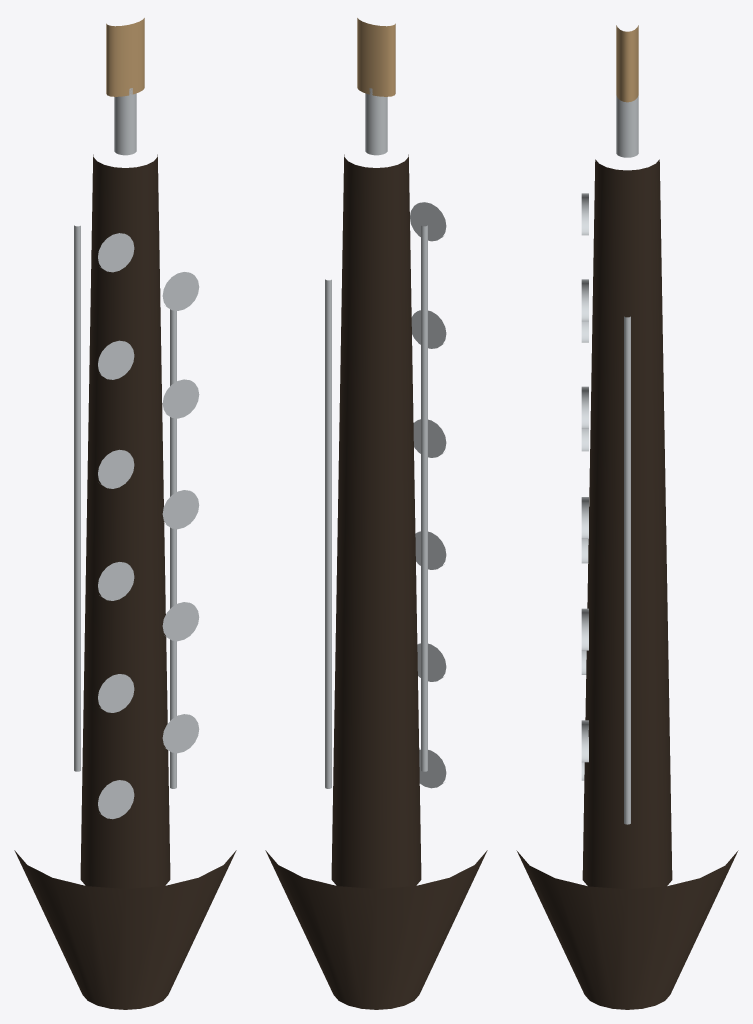
File: english-horn.glb
3 views of the same model, side by side, from view 1: azimuth 30°, elevation 25°; view 2: azimuth 150°, elevation 25°; view 3: azimuth 270°, elevation 25° (orthographic).
Parts seen in each view (by area): view 1: body, bell, left_rod, double_reed, right_rod, staple, key__k04, key__k06, key__k08, key__k09, key__k02, key__k05 (+5 smaller); view 2: body, bell, left_rod, right_rod, double_reed, staple, key__k01, key__k03, key__k05, key__k07, key__k11, key__k09; view 3: body, bell, right_rod, double_reed, staple.
Part boxes in pixels (x1,y1,x2,y2): body: (80, 154, 170, 888); bell: (14, 850, 236, 1009); left_rod: (74, 225, 80, 771); double_reed: (106, 18, 144, 96); right_rod: (170, 309, 176, 788); staple: (114, 88, 136, 155); key__k04: (162, 379, 199, 418); key__k06: (162, 490, 199, 529); key__k08: (162, 602, 199, 641); key__k09: (98, 674, 134, 712); key__k02: (162, 272, 199, 310); key__k05: (98, 449, 134, 488); body: (331, 154, 421, 888); bell: (265, 850, 487, 1009); left_rod: (421, 225, 427, 771); right_rod: (325, 279, 331, 788); double_reed: (357, 18, 395, 96); staple: (365, 88, 387, 155); key__k01: (410, 202, 446, 241); key__k03: (411, 310, 446, 348); key__k05: (413, 419, 446, 457); key__k07: (415, 531, 446, 569); key__k11: (419, 749, 446, 788); key__k09: (417, 643, 446, 681); body: (582, 159, 672, 889); bell: (516, 850, 738, 1009); right_rod: (624, 316, 630, 824); double_reed: (616, 25, 638, 102); staple: (616, 95, 638, 157).
Size of the model in its own units: 1.5 by 7.1 by 1.48.
